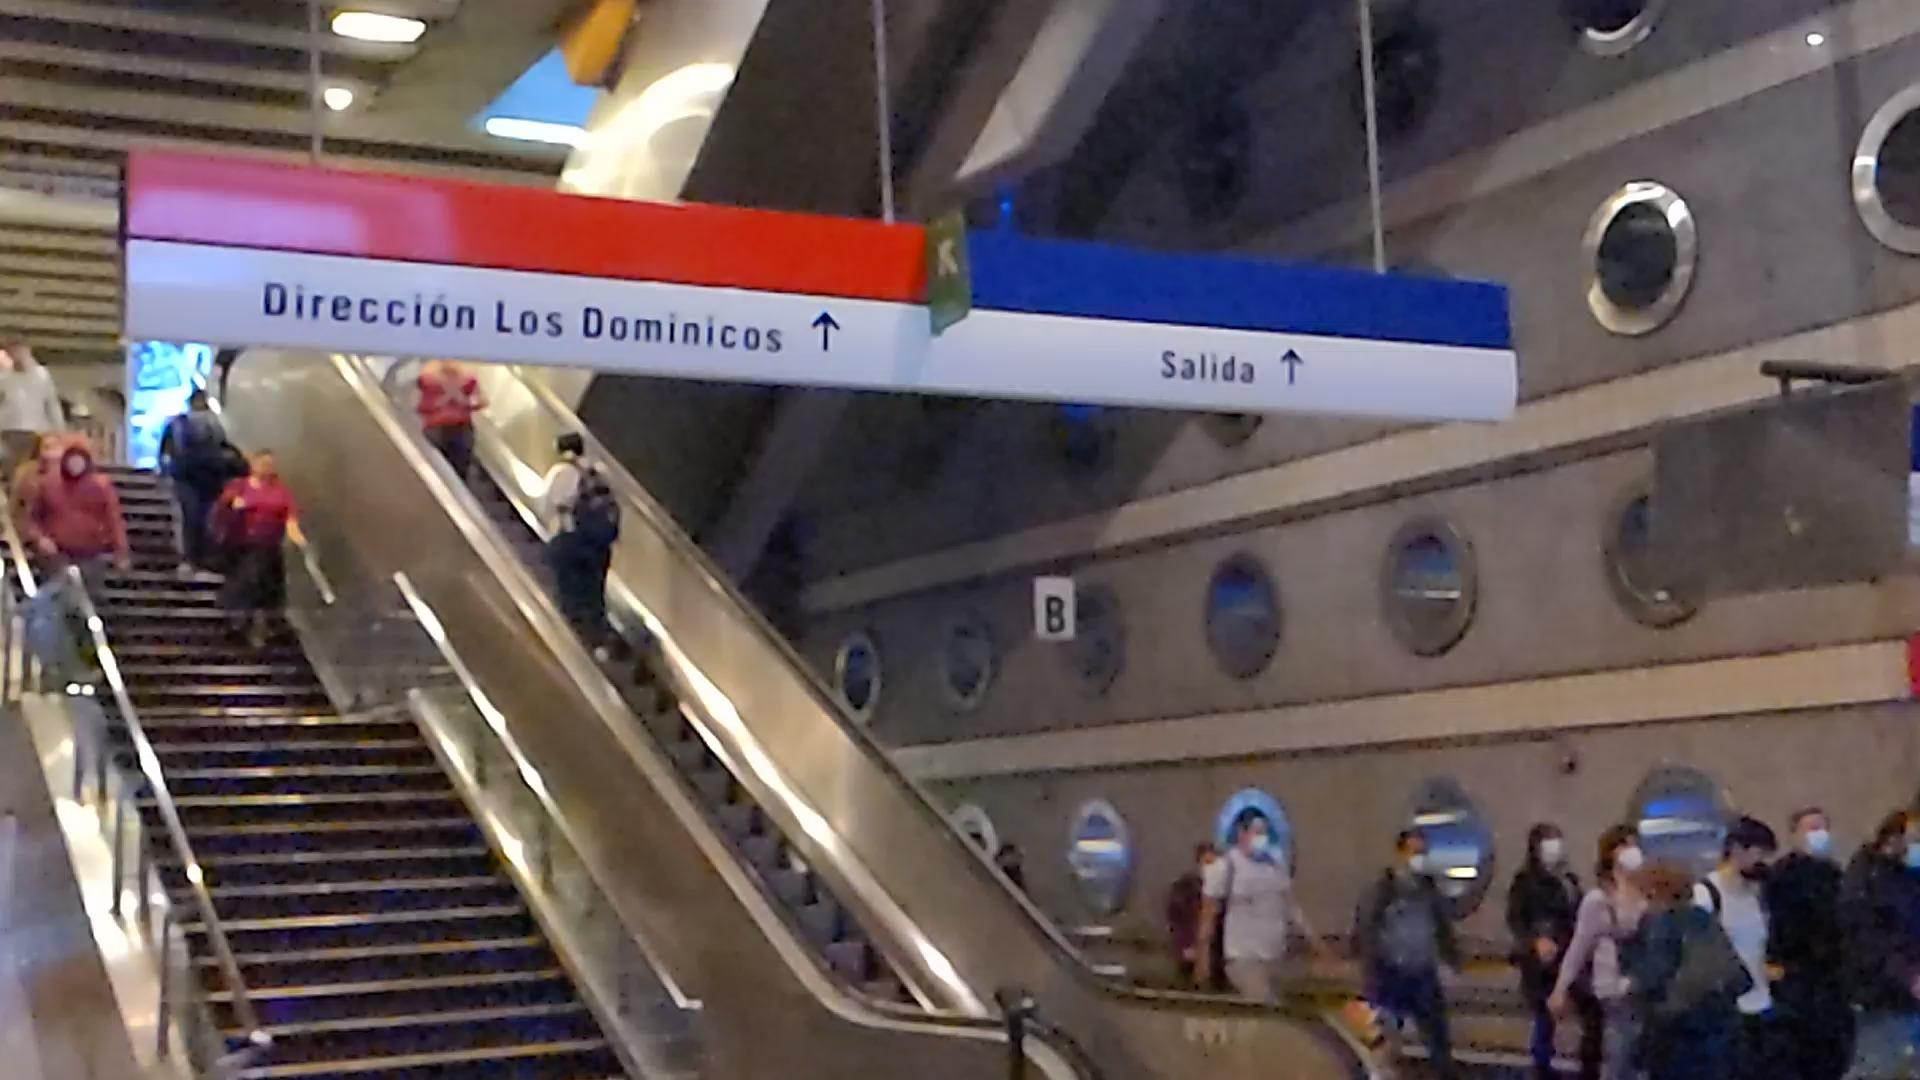up arrow: (806, 305, 845, 360), (1278, 345, 1305, 388)
